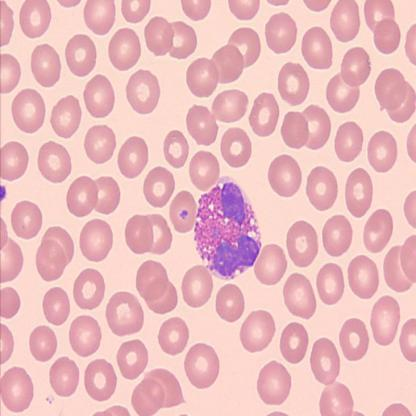Eosinophil: (194, 176, 262, 281)
